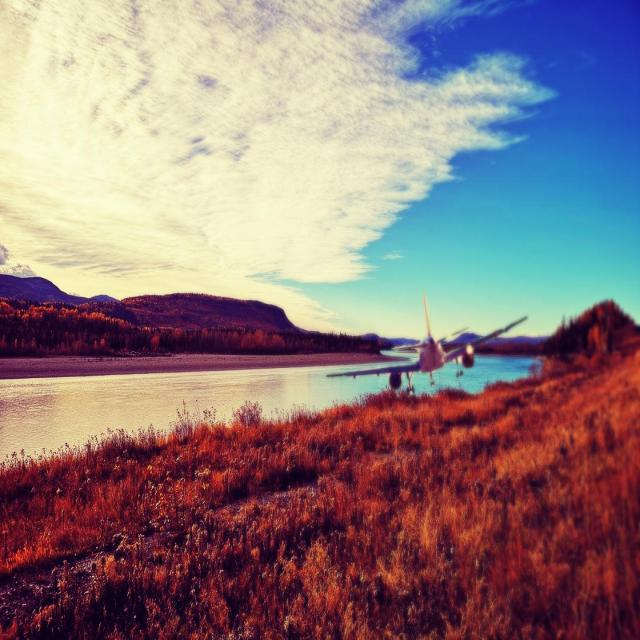airplane: (325, 292, 528, 394)
